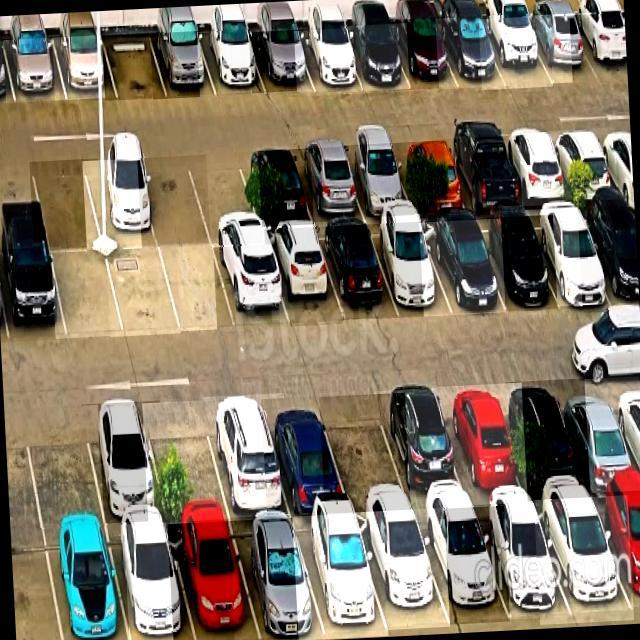empty: (319, 395, 411, 509), (143, 404, 230, 522), (22, 406, 104, 528), (187, 152, 263, 246), (138, 157, 211, 248), (106, 249, 181, 336), (30, 161, 102, 250), (160, 247, 236, 331), (52, 252, 123, 338), (102, 34, 168, 99)
occupied: (534, 497, 634, 623), (293, 514, 389, 640), (375, 389, 472, 509), (229, 519, 325, 640), (415, 507, 510, 625), (167, 521, 261, 640), (475, 504, 572, 619), (355, 513, 450, 629), (437, 385, 528, 505), (203, 396, 290, 518), (261, 398, 349, 514), (108, 523, 195, 640), (506, 382, 591, 501), (82, 404, 166, 523), (44, 526, 129, 640), (556, 381, 640, 496), (526, 209, 614, 306), (471, 217, 558, 311), (420, 221, 506, 315), (318, 224, 399, 320), (265, 228, 343, 326), (369, 223, 452, 315), (82, 159, 158, 250), (214, 245, 289, 328), (578, 207, 639, 309), (0, 249, 66, 342), (444, 137, 523, 213), (592, 492, 640, 613), (239, 150, 314, 227), (292, 147, 366, 222), (500, 132, 572, 206), (341, 145, 415, 217), (479, 17, 553, 89), (393, 141, 468, 212), (522, 16, 600, 83), (548, 130, 618, 201), (436, 19, 506, 88), (390, 19, 458, 90), (341, 24, 410, 90), (150, 33, 216, 98), (198, 33, 266, 96), (294, 30, 362, 91), (53, 36, 117, 100), (4, 38, 66, 103), (570, 13, 627, 82), (249, 32, 313, 93)
